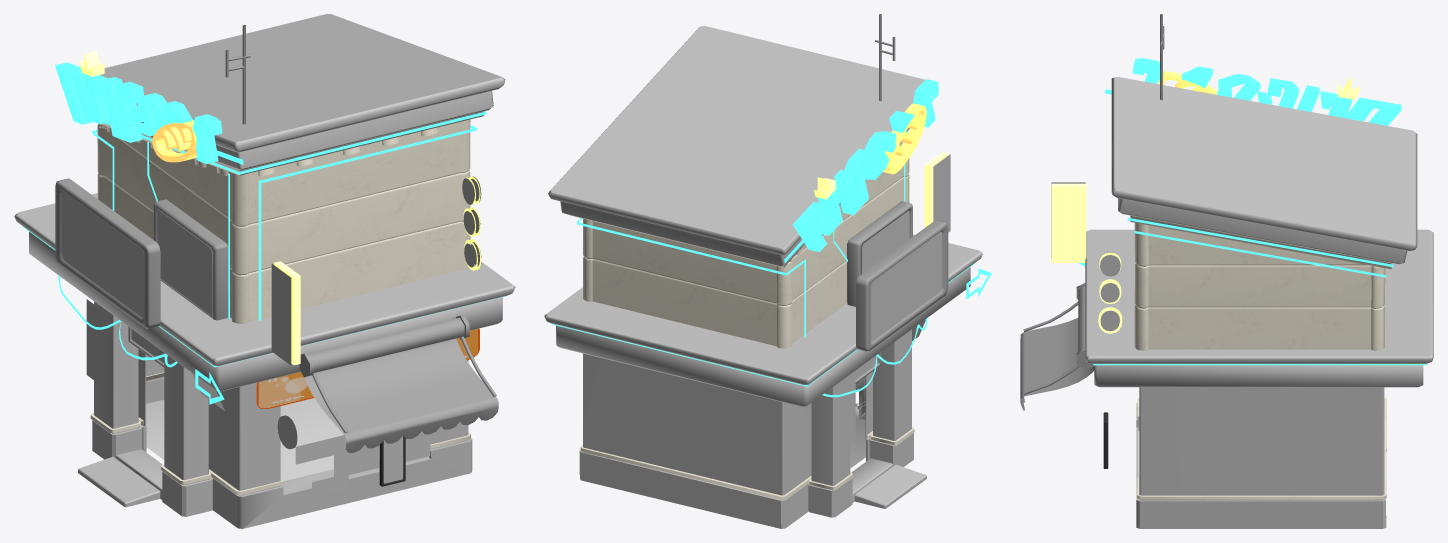
Rendered from cybercity_building_bakery.fbx.
3 views of the same model, side by side, from view 1: azimuth 30°, elevation 25°; view 2: azimuth 150°, elevation 25°; view 3: azimuth 270°, elevation 25° (orthographic). The views are drawn at different scales.
Parts seen in each view (by area): view 1: cybercity_building_baker_001_01_lod00, cybercity_building_baker_001_04_lod00, cybercity_building_baker_001_02_lod00, cybercity_building_baker_002_03_lod00, cybercity_building_baker_002_01_2, cybercity_building_baker_003_02_1, cybercity_building_baker_002_04_1, cybercity_building_baker_002_01_3, cybercity_building_baker_003_03_lod00, cybercity_building_baker_002_04_3, cybercity_building_baker_003_05_lod00, cybercity_building_baker_003_01_2 (+10 smaller); view 2: cybercity_building_baker_001_01_lod00, cybercity_building_baker_001_02_lod00, cybercity_building_baker_001_04_lod00, cybercity_building_baker_002_01_2, cybercity_building_baker_003_02_1, cybercity_building_baker_002_04_1, cybercity_building_baker_002_01_3, cybercity_building_baker_002_04_3, cybercity_building_baker_003_03_lod00, cybercity_building_baker_002_02_lod00, cybercity_building_baker_003_01_2, cybercity_building_baker_003_02_3 (+1 smaller); view 3: cybercity_building_baker_001_01_lod00, cybercity_building_baker_001_04_lod00, cybercity_building_baker_001_02_lod00, cybercity_building_baker_002_03_lod00, cybercity_building_baker_002_01_2, cybercity_building_baker_002_06_002, cybercity_building_baker_002_01_3, cybercity_building_baker_003_01_8, cybercity_building_baker_002_06_0012.
Part boxes in pixels (x1,y1,x2,y2): cybercity_building_baker_001_01_lod00: (14, 14, 515, 528); cybercity_building_baker_001_04_lod00: (90, 111, 483, 495); cybercity_building_baker_001_02_lod00: (94, 301, 468, 495); cybercity_building_baker_002_03_lod00: (299, 314, 498, 452); cybercity_building_baker_002_01_2: (55, 62, 243, 164); cybercity_building_baker_003_02_1: (61, 191, 143, 317); cybercity_building_baker_002_04_1: (55, 178, 160, 328); cybercity_building_baker_002_01_3: (22, 111, 506, 367); cybercity_building_baker_003_03_lod00: (157, 210, 211, 314); cybercity_building_baker_002_04_3: (153, 199, 228, 320); cybercity_building_baker_003_05_lod00: (256, 328, 479, 408); cybercity_building_baker_003_01_2: (271, 264, 291, 365); cybercity_building_baker_001_01_lod00: (544, 25, 982, 528); cybercity_building_baker_001_02_lod00: (583, 329, 911, 500); cybercity_building_baker_001_04_lod00: (570, 142, 914, 499); cybercity_building_baker_002_01_2: (784, 79, 938, 263); cybercity_building_baker_003_02_1: (870, 231, 942, 342); cybercity_building_baker_002_04_1: (856, 220, 948, 351); cybercity_building_baker_002_01_3: (551, 130, 975, 397); cybercity_building_baker_002_04_3: (847, 201, 912, 306); cybercity_building_baker_003_03_lod00: (862, 211, 909, 273); cybercity_building_baker_002_02_lod00: (883, 103, 926, 174); cybercity_building_baker_003_01_2: (933, 154, 950, 232); cybercity_building_baker_003_02_3: (841, 373, 855, 449); cybercity_building_baker_001_01_lod00: (1085, 76, 1433, 528); cybercity_building_baker_001_04_lod00: (1130, 215, 1391, 499); cybercity_building_baker_001_02_lod00: (1139, 387, 1384, 500); cybercity_building_baker_002_03_lod00: (1020, 283, 1094, 410); cybercity_building_baker_002_01_2: (1104, 58, 1401, 125); cybercity_building_baker_002_06_002: (1051, 183, 1086, 262); cybercity_building_baker_002_01_3: (1093, 217, 1426, 365); cybercity_building_baker_003_01_8: (1100, 252, 1120, 331); cybercity_building_baker_002_06_0012: (1098, 252, 1122, 333).
Size of what is drawn, in the model's own units: 1239 by 1803 by 1594.
